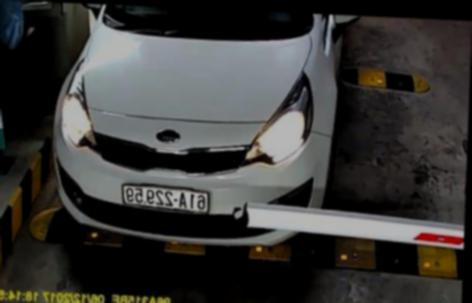License_Plate: (120, 179, 215, 219)
